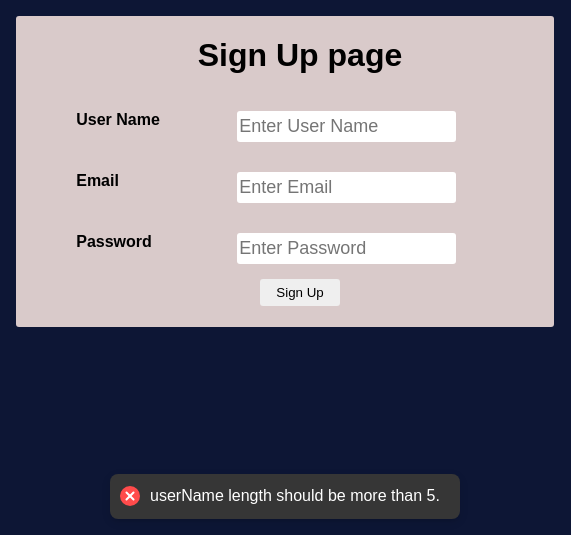
Test: testing for signUp Page › when email is Invalid and submit the form
Type "tikam suvasiya" into the field with placeholder "Enter User Name" at (347, 126), box [237,111,456,142]
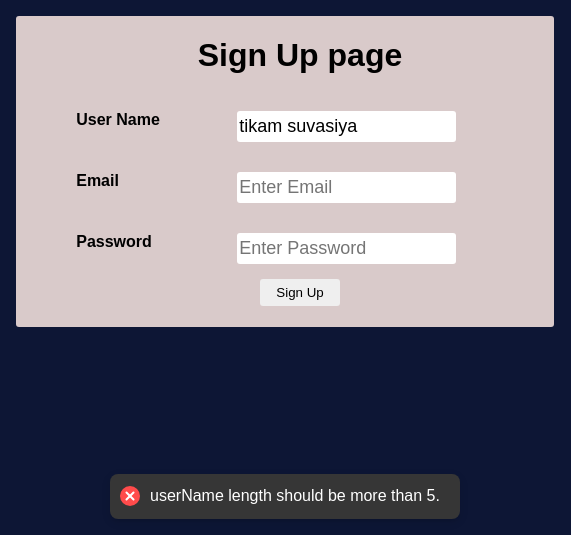
Click the button at (300, 292), box [260,279,340,306]
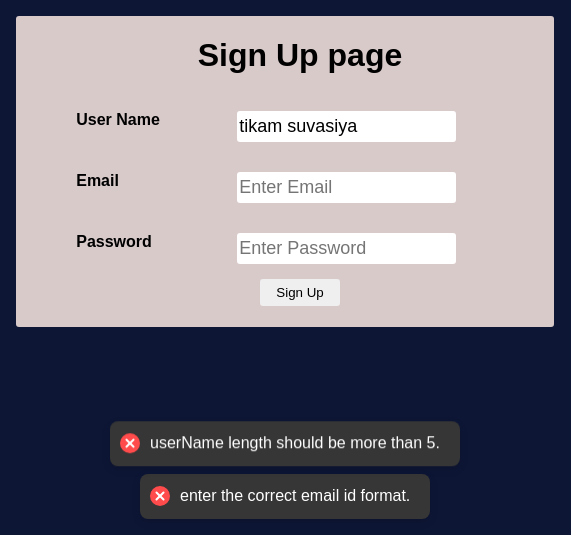
Expected: the text "enter the correct email id format." is shown, [180,486,410,507]
